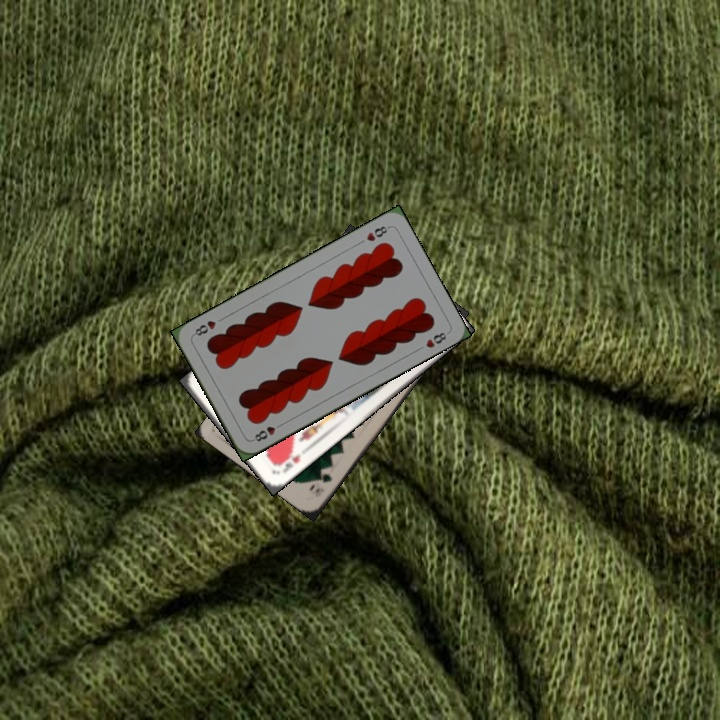G10: (311, 469, 335, 495)
H8: (248, 419, 286, 444), (362, 222, 392, 244)
HK: (279, 450, 304, 476)
